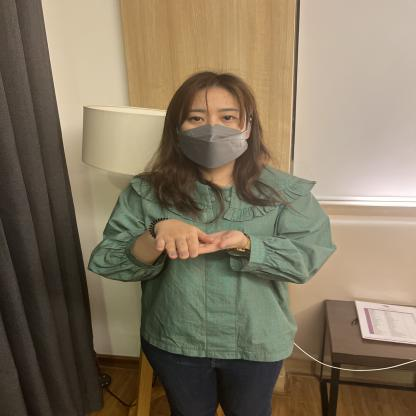Love: (101, 194, 333, 326)
